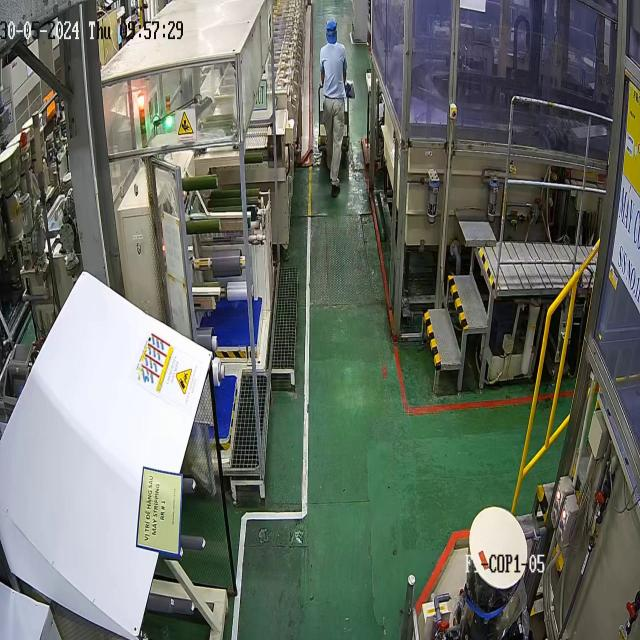Person: (320, 19, 348, 197)
